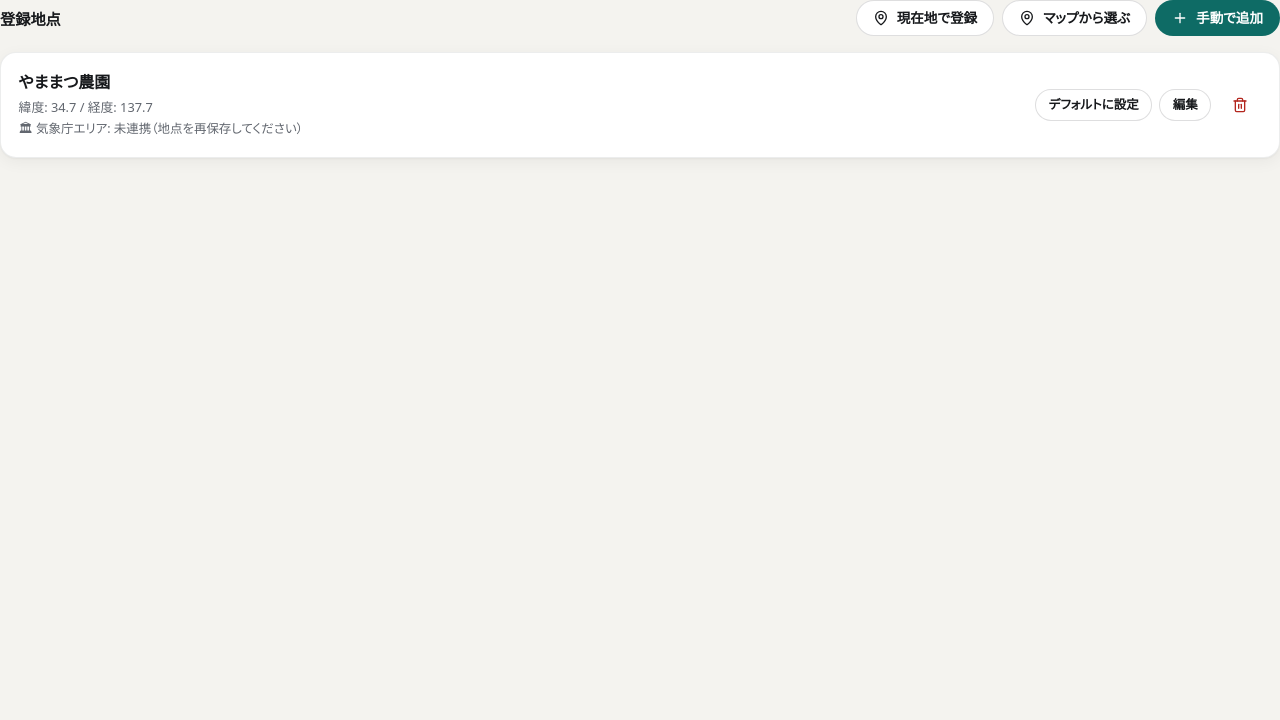
地点の削除（Firestore 書き込みの完了を待つ） › 失敗したらダイアログを閉じずにエラーを表示する
This screenshot has width=1280, height=720.
Click the button named "削除".
click(1240, 105)  # box left=1218, top=89, right=1261, bottom=121
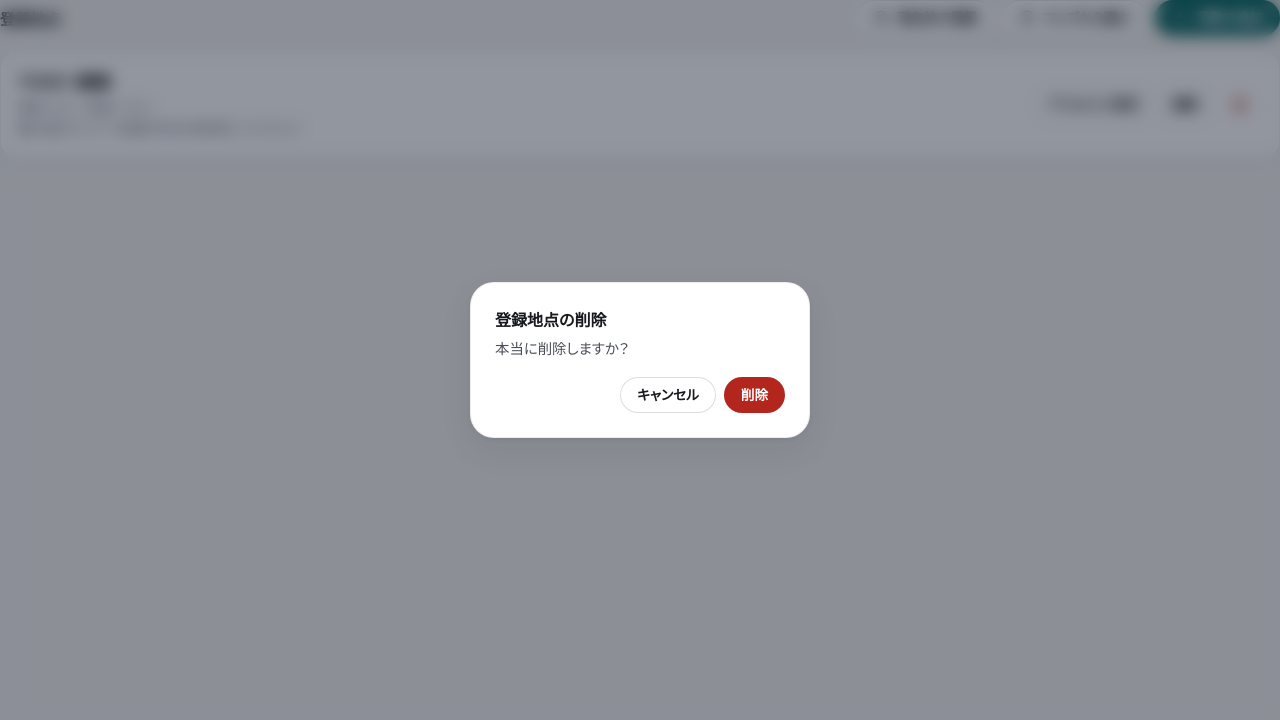
Click the button "削除".
click(754, 395)  # box left=724, top=377, right=785, bottom=413
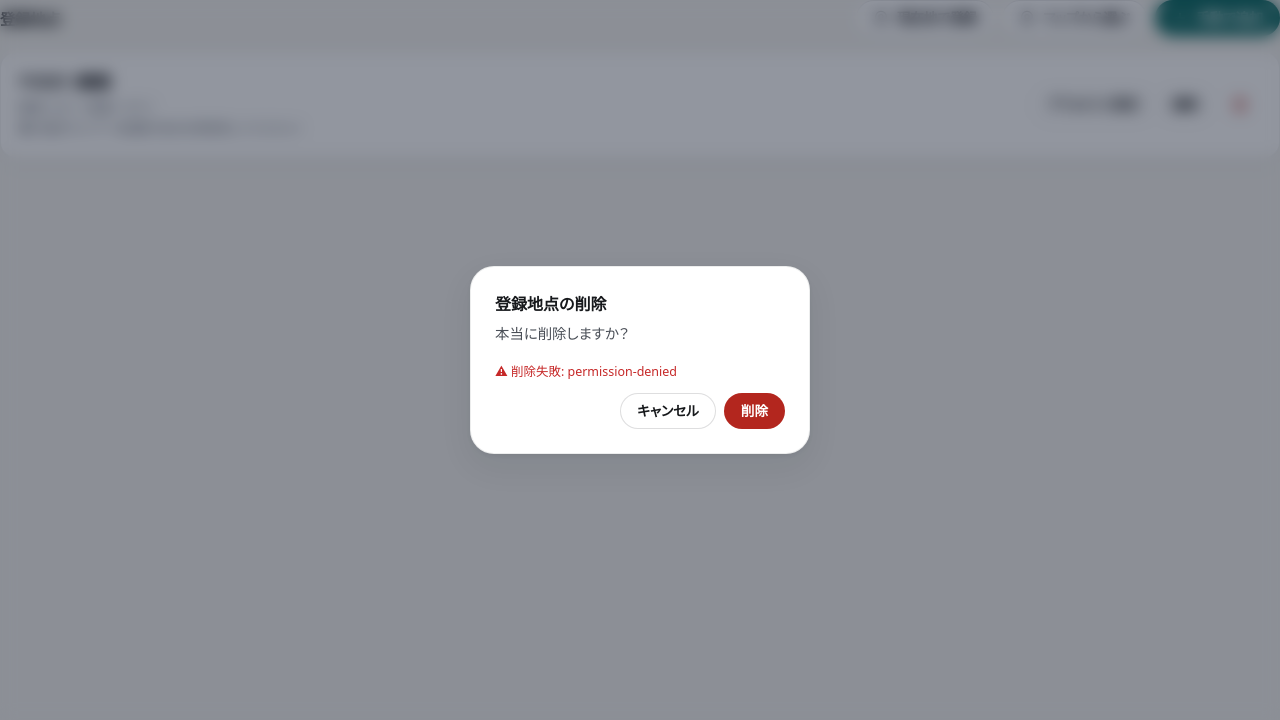
Now the dialog is shown, box left=470, top=266, right=810, bottom=454
Now the message shows "permission-denied", box left=568, top=363, right=677, bottom=380
